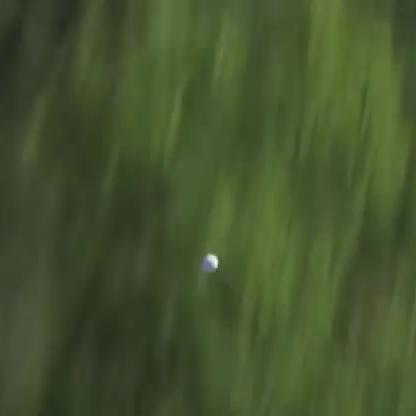golfball: (199, 252, 217, 270)
